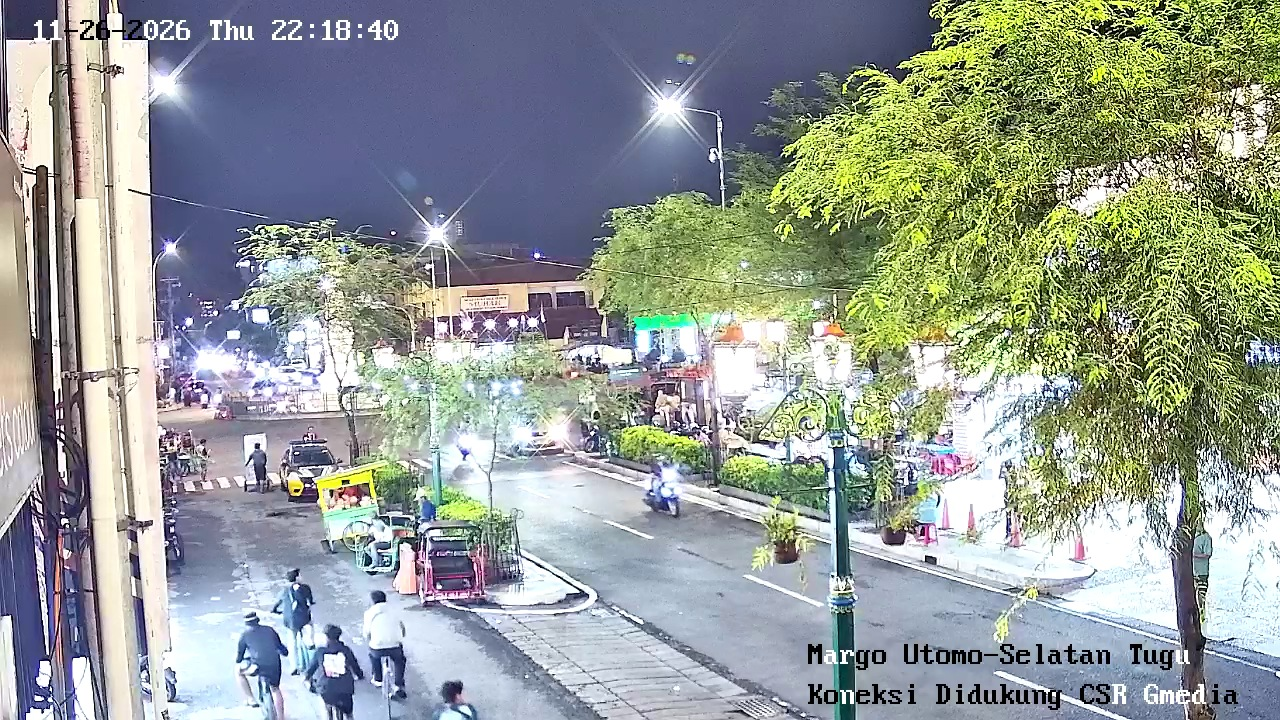Gerobak: (315, 459, 393, 550)
